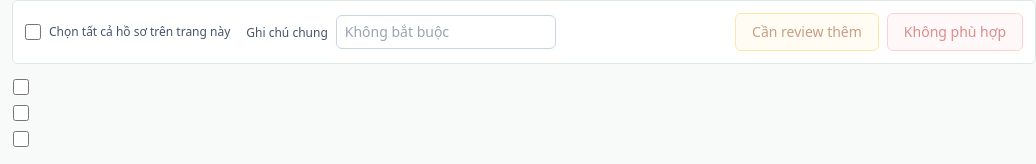
it: bulk selection UX › shows the selected count only once something is selected
Click the checkbox named "Chọn hồ sơ 00000001". click: x=21, y=87
box: [13, 79, 29, 95]
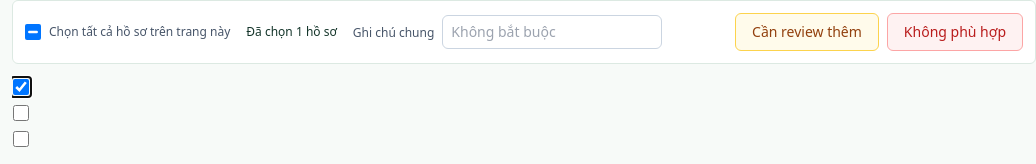
Result: the text with test id "bulk-selected-count" reads "Đã chọn 1 hồ sơ" at [246, 24, 337, 40]
